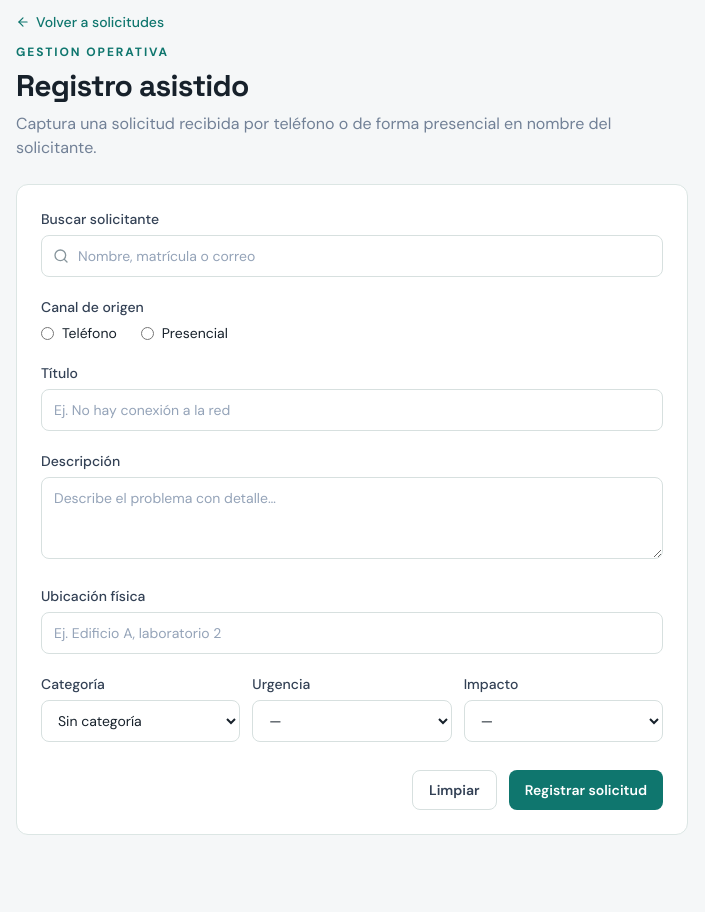
Scenario: RegistroAsistidoPage: registro asistido (S3-09, HU-01.3) › busca al solicitante por nombre y lo muestra para elegirlo
Type "ana" into the field labelled "Buscar solicitante" at (352,256), box [41,235,663,277]
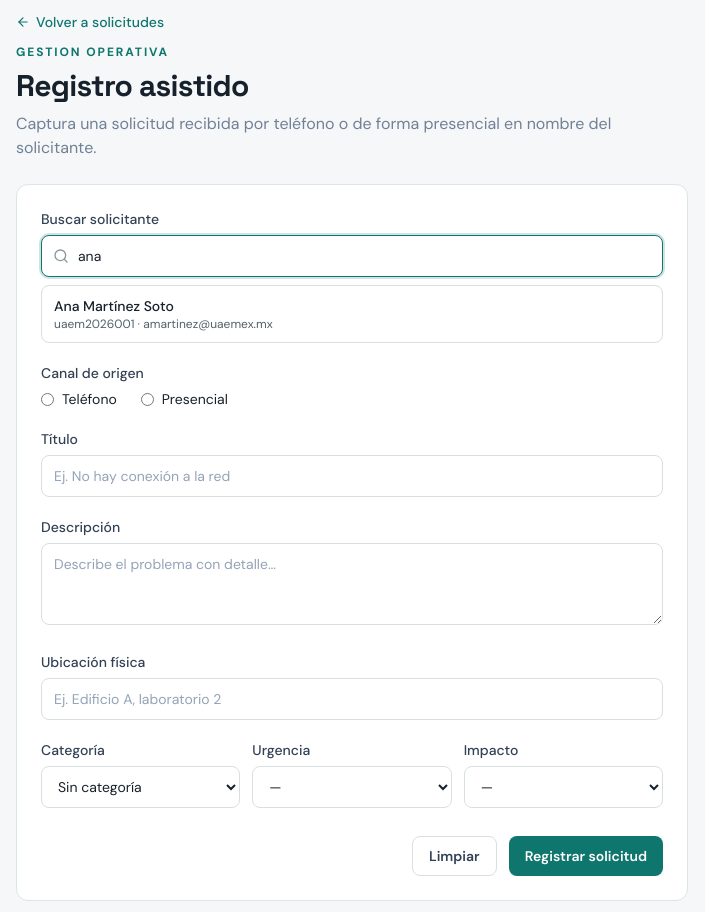
Click the button "Ana Martínez Soto uaem2026001 · amartinez@uaemex.mx" at (114,306), box [42,286,662,342]
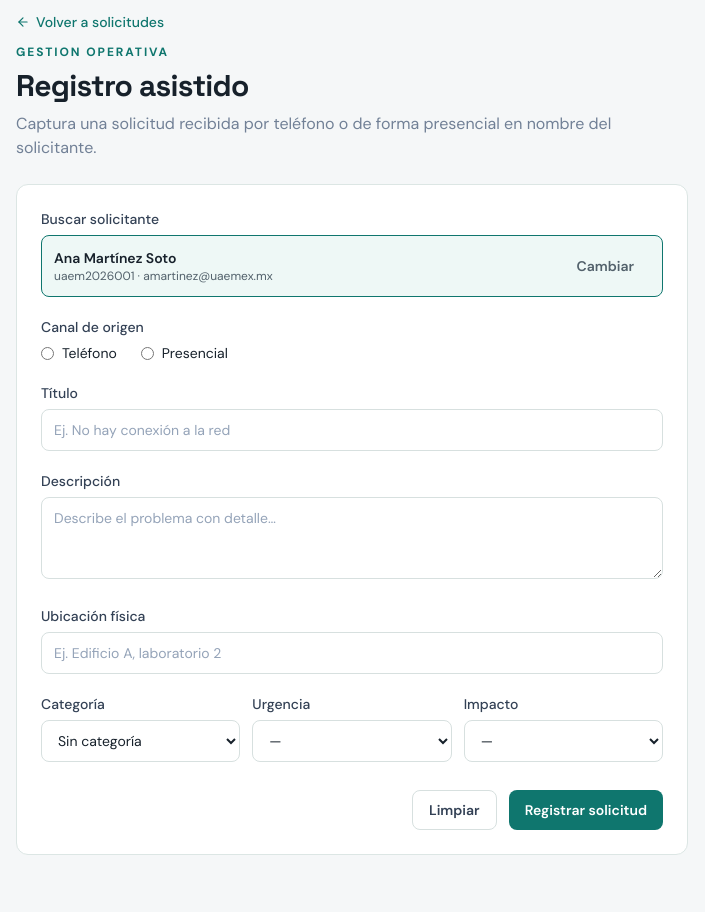
Expected: the text "uaem2026001 · amartinez@uaemex.mx" is shown, [54,268,273,284]
Expected: the button "Cambiar" is shown, [560,246,650,286]
